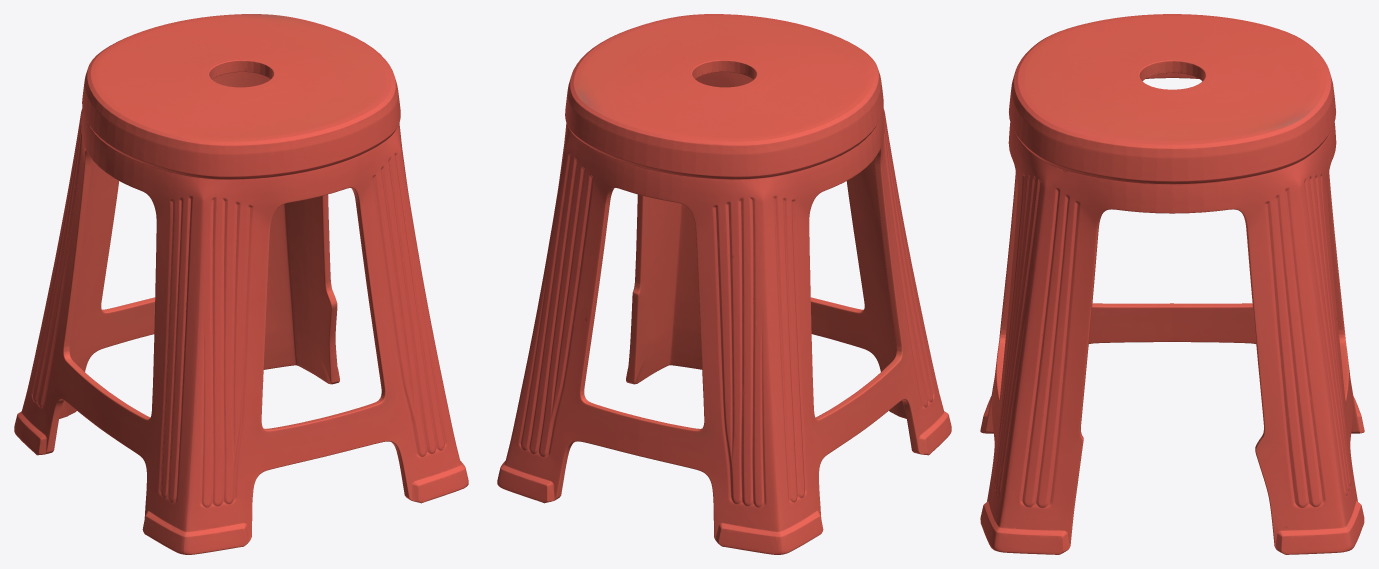
File: plastic_stool_red__hunyuan.glb
3 views of the same model, side by side, from view 1: azimuth 30°, elevation 25°; view 2: azimuth 150°, elevation 25°; view 3: azimuth 270°, elevation 25° (orthographic). The views are drawn at different scales.
Parts seen in each view (by area): view 1: material; view 2: material; view 3: material.
Boxes of the visible parts, x1,y1,x2,y2 form: material: (14, 14, 468, 554); material: (497, 14, 951, 554); material: (980, 14, 1364, 554).
Bounding box in the file's own units: 0.6604 × 0.8054 × 0.6946.
Materials: 1 (1 with a texture image).
